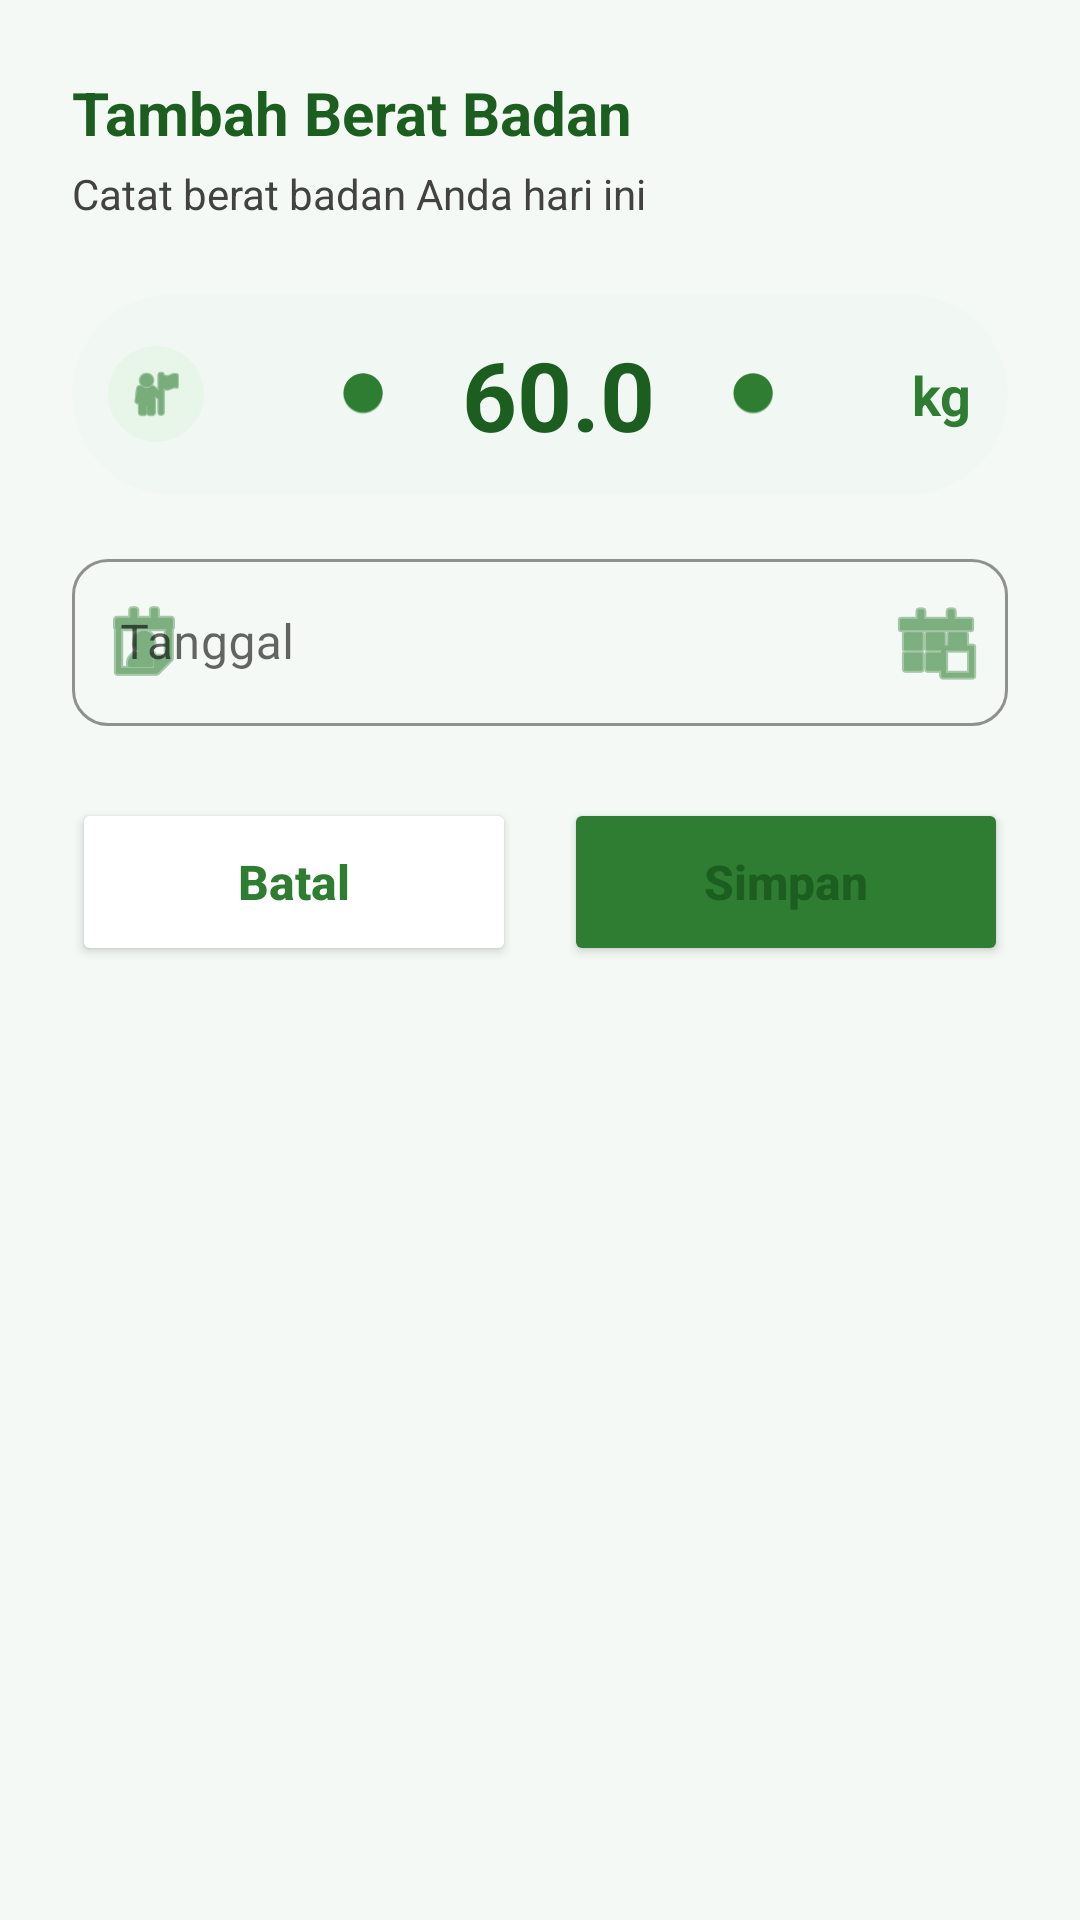

Icons on this 1080 x 1920 Android screen, each with its box as (x1, y1, x2, y2):
myplaces: (134, 371, 179, 417)
